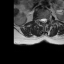CCS_normal: (42, 16, 44, 25)
LFS_normal: (47, 17, 49, 23)
LLS_normal: (44, 17, 46, 23)
RFS_normal: (38, 17, 40, 23)
RLS_normal: (40, 17, 42, 23)
